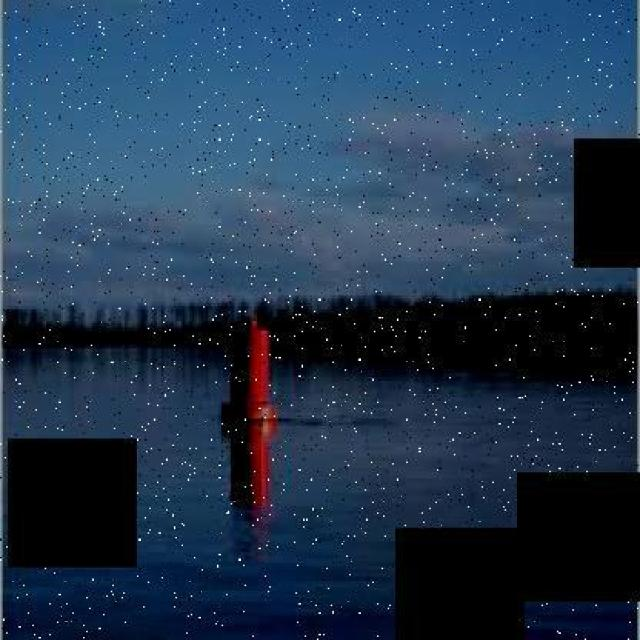Red Buoy: (231, 326, 271, 424)
